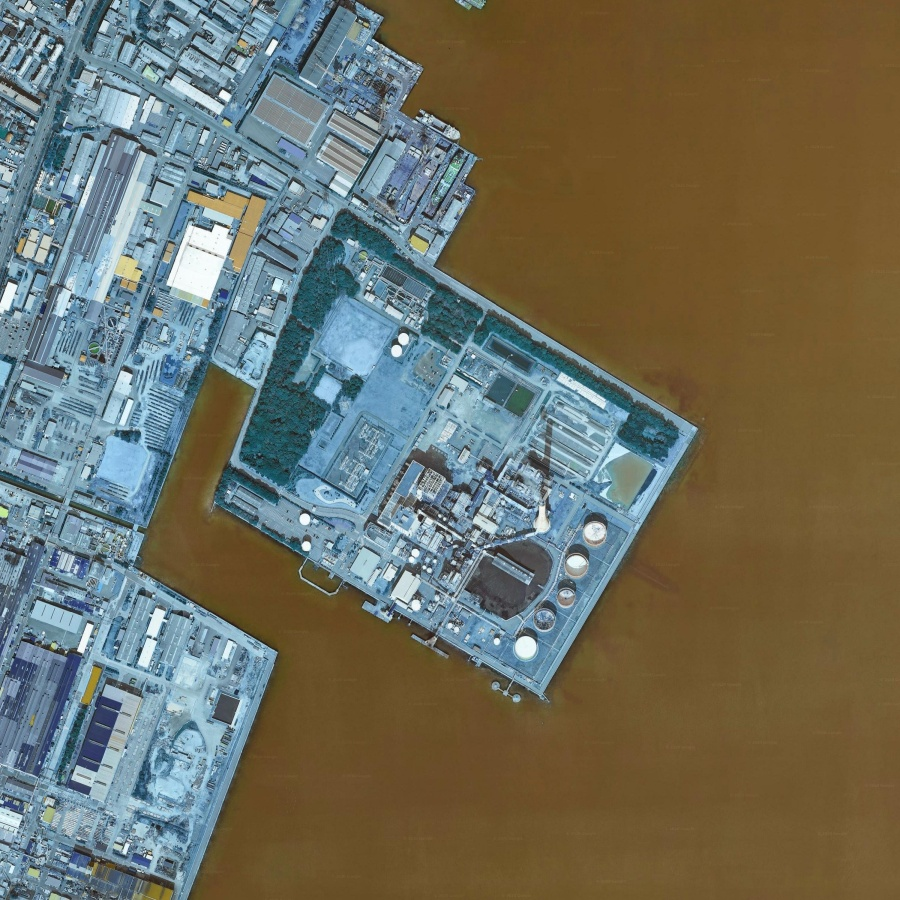PowerPlant: (293, 374, 662, 693)
